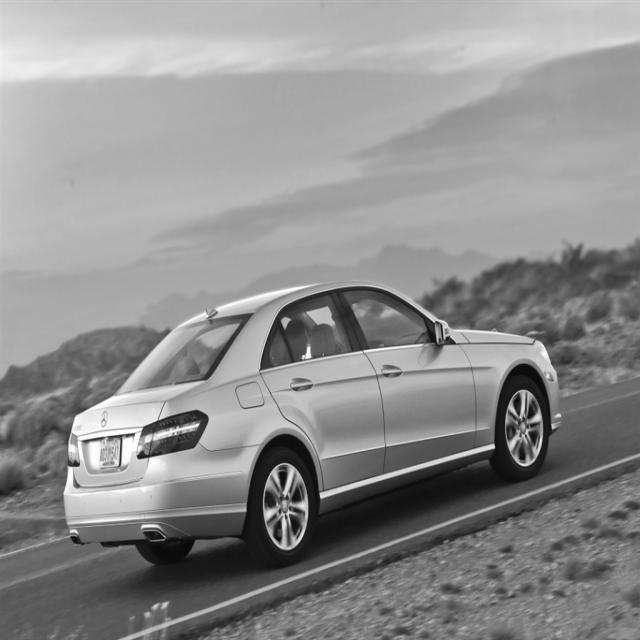car: (62, 279, 562, 568)
